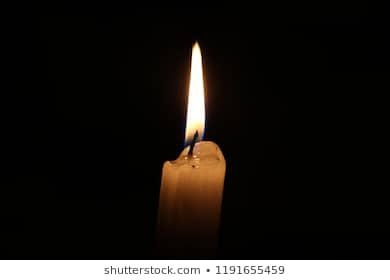fire: (184, 38, 207, 145)
